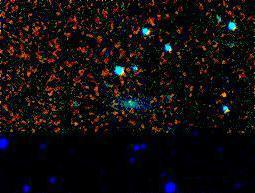star: (208, 80, 238, 110)
